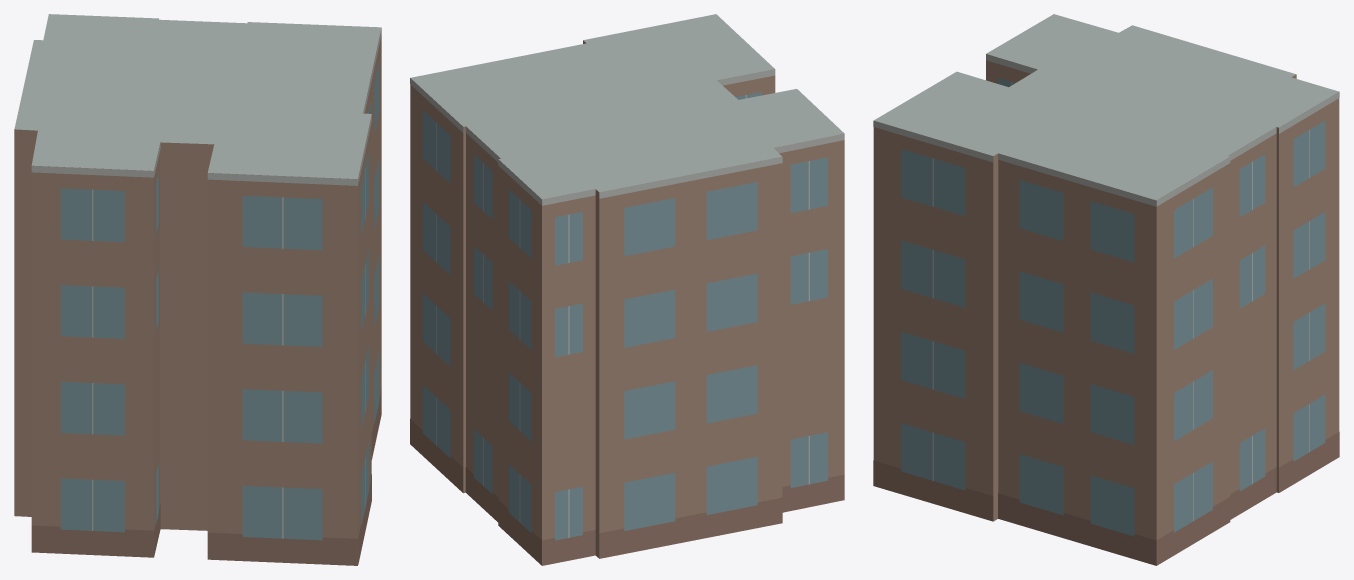
The model's file is survey-upis-32865971.glb.
3 renders of one model, left to right at view 1: azimuth 30°, elevation 25°; view 2: azimuth 150°, elevation 25°; view 3: azimuth 270°, elevation 25°, orthographic. The views are drawn at different scales.
Visible parts, largest first — view 1: survey-upis-32865971.tmp; view 2: survey-upis-32865971.tmp; view 3: survey-upis-32865971.tmp.
Boxes of the visible parts, x1=… form: survey-upis-32865971.tmp: x1=14, y1=14, x2=381, y2=565; survey-upis-32865971.tmp: x1=410, y1=14, x2=844, y2=565; survey-upis-32865971.tmp: x1=873, y1=14, x2=1339, y2=565.
Bounding box in the file's own units: 15.33 × 14 × 16.18.
